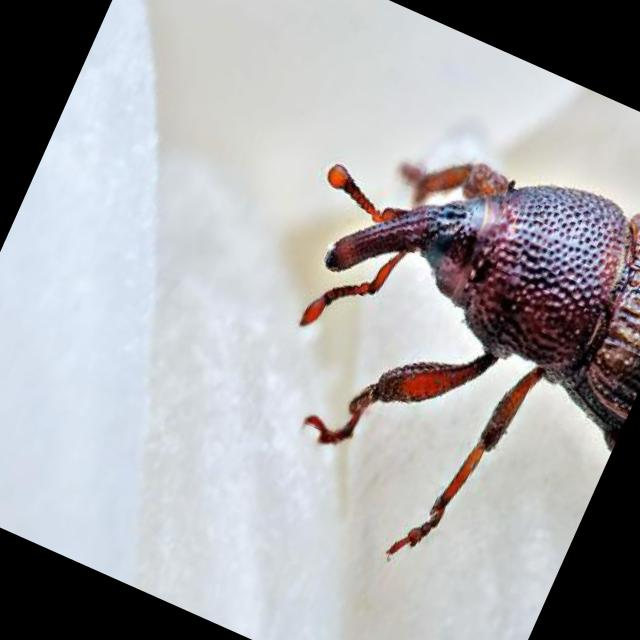rice-bug: (228, 86, 640, 574)
